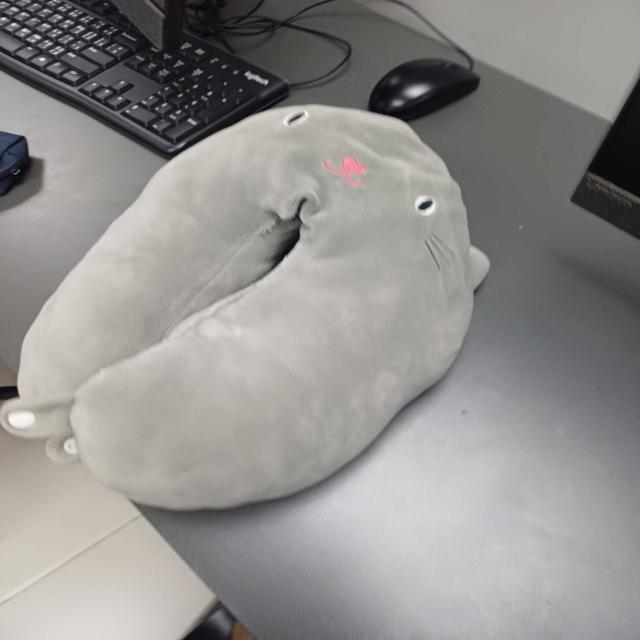pillow: (0, 96, 493, 516)
